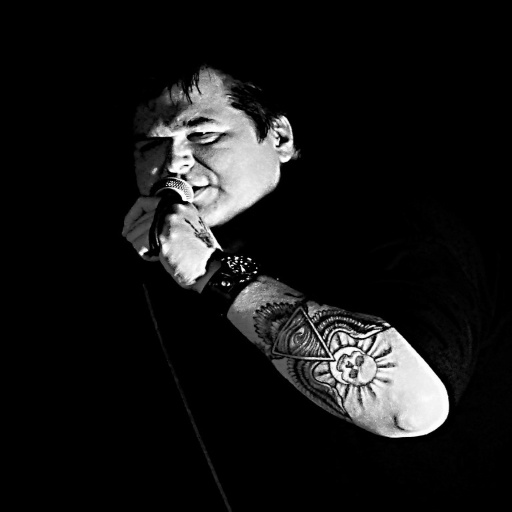hand: (140, 189, 236, 297)
